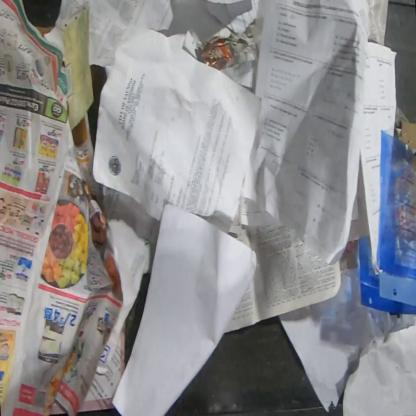cardboard: (399, 118, 416, 152), (36, 26, 54, 38)
soft_plastic: (359, 128, 415, 315)
